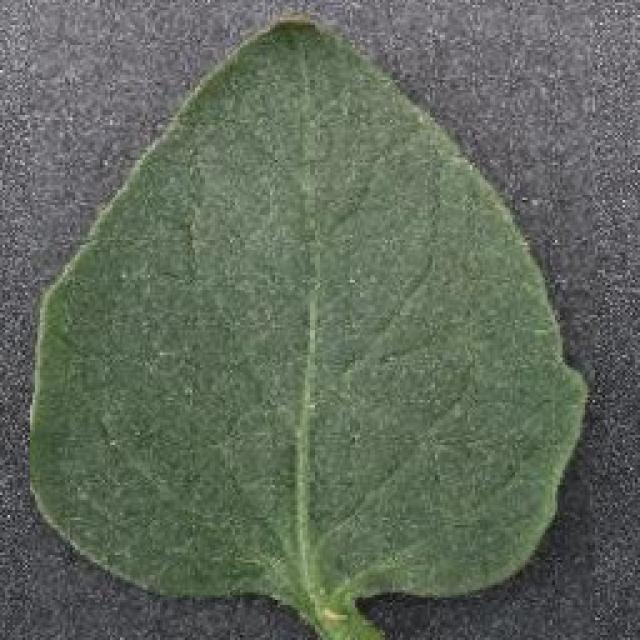Healthy: (30, 2, 595, 640)
